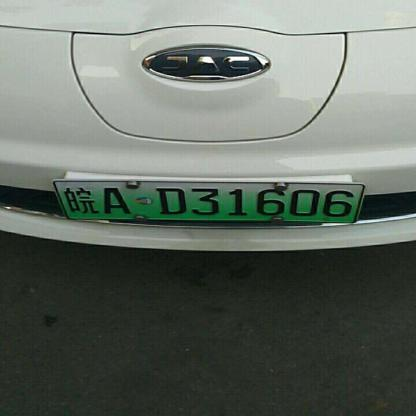lp: (55, 181, 67, 220)
